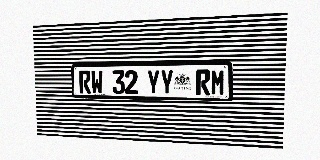2: (125, 70, 138, 94)
3: (112, 70, 125, 94)
M: (211, 69, 225, 96)
R: (196, 69, 210, 95), (79, 70, 91, 94)
W: (91, 70, 103, 94)
Y: (147, 70, 160, 95), (160, 70, 173, 95)
